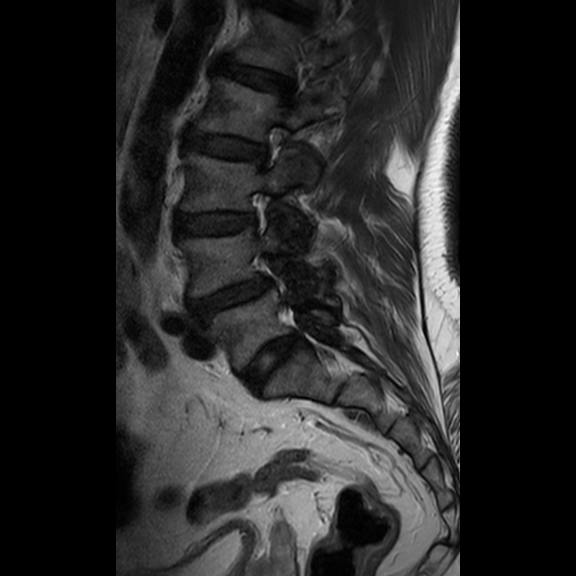LFS0: (242, 114, 294, 177), (234, 177, 280, 240)
